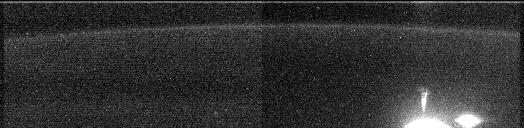positive: (416, 89, 432, 113)
